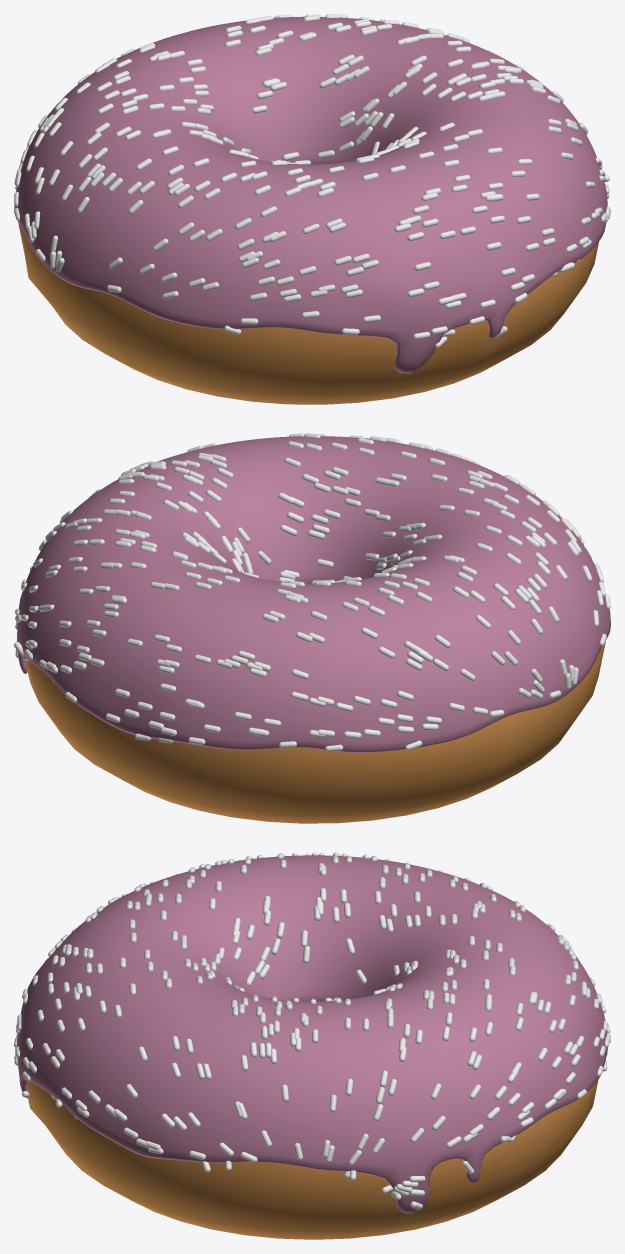
Rendered from donut-larissa.gltf.
3 views of the same model, one above another, from view 1: azimuth 30°, elevation 25°; view 2: azimuth 150°, elevation 25°; view 3: azimuth 270°, elevation 25° (orthographic).
Parts seen in each view (by area): view 1: glaze, donut; view 2: glaze, donut; view 3: glaze, donut.
Part boxes in pixels (x1,y1,x2,y2): glaze: (14,16,607,373); donut: (18,221,598,404); glaze: (17,436,610,752); donut: (25,640,605,823); glaze: (16,855,607,1213); donut: (26,1080,598,1239).
Bounding box in the file's own units: 0.3229 × 0.13 × 0.3218.
